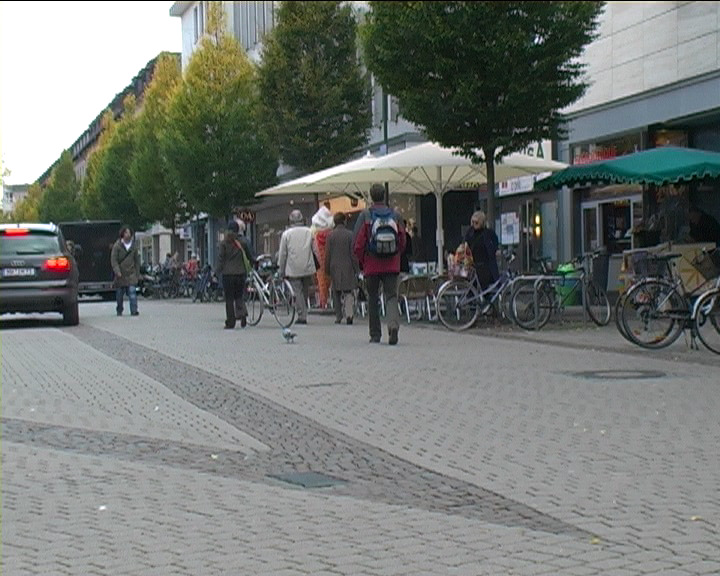undeflect: (354, 180, 408, 234)
